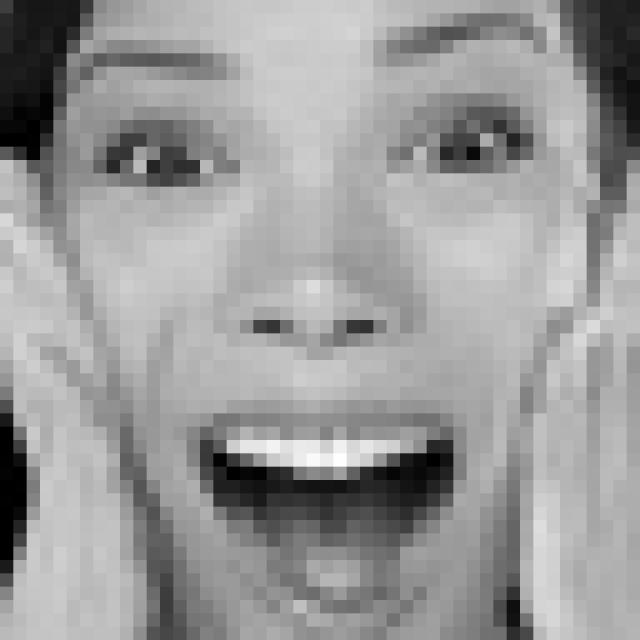happy: (75, 13, 563, 640)
